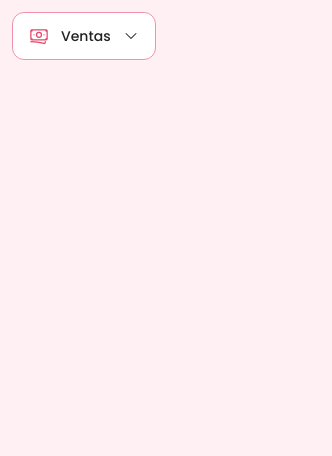
ReportSelector › closes dropdown after selection
Click the button: (84, 36) [12, 12, 156, 60]
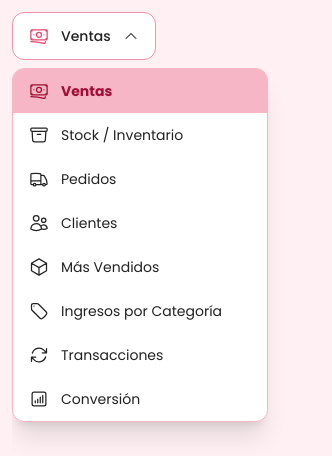
Click the button "Clientes": (140, 223) [13, 201, 267, 245]
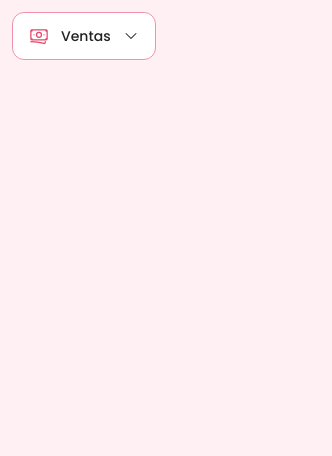
Now the button "Más Vendidos" is gone
